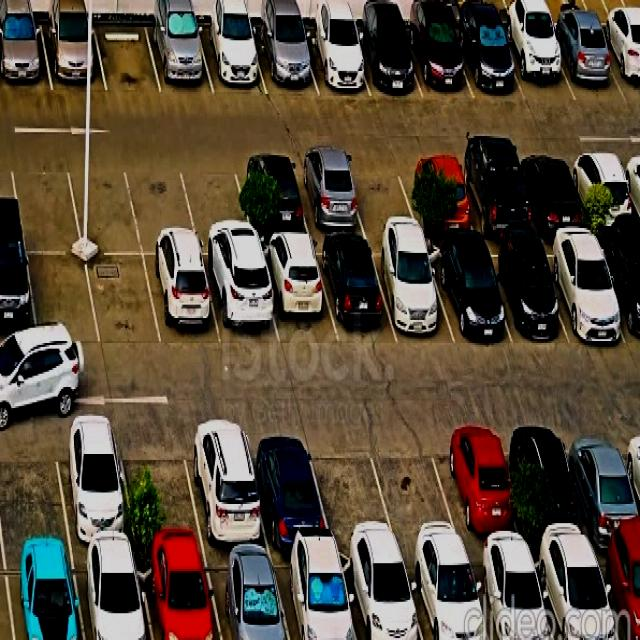empty: (366, 422, 465, 551), (306, 424, 399, 550), (116, 421, 204, 550), (0, 420, 70, 550), (178, 156, 255, 255), (65, 157, 142, 254), (126, 157, 200, 254), (9, 156, 82, 252), (86, 255, 161, 348), (27, 254, 100, 347), (343, 155, 419, 233), (94, 22, 161, 93)
occupied: (433, 421, 525, 550), (181, 419, 269, 550), (244, 423, 332, 548), (508, 420, 593, 549), (52, 419, 136, 549), (561, 420, 640, 546), (538, 236, 628, 341), (479, 242, 567, 343), (424, 243, 512, 344), (369, 242, 455, 344), (257, 241, 338, 347), (314, 241, 397, 343), (530, 547, 619, 640), (467, 551, 554, 640), (402, 551, 489, 640), (203, 552, 289, 640), (338, 552, 423, 640), (136, 552, 221, 640), (271, 552, 356, 640), (72, 551, 152, 640), (4, 551, 84, 640), (144, 256, 221, 346), (202, 258, 279, 346), (454, 154, 535, 235), (233, 156, 310, 238), (399, 155, 477, 234), (545, 26, 625, 101), (499, 26, 576, 103), (291, 156, 366, 235), (515, 152, 588, 230), (567, 151, 639, 228), (453, 24, 525, 100), (404, 23, 473, 99), (595, 235, 640, 346), (351, 27, 422, 97), (197, 25, 267, 94), (146, 23, 214, 94), (300, 29, 370, 96), (40, 23, 107, 91), (593, 544, 640, 640), (252, 29, 317, 94), (0, 249, 38, 347), (0, 23, 52, 91), (597, 28, 640, 101)
